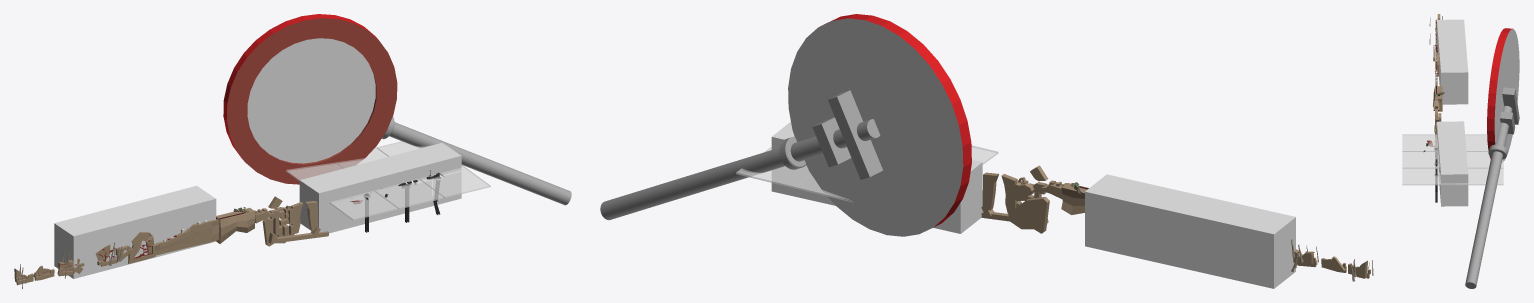
Rendered from 矿洞 标识界白盒.fbx.
3 views of the same model, side by side, from view 1: azimuth 30°, elevation 25°; view 2: azimuth 150°, elevation 25°; view 3: azimuth 270°, elevation 25° (orthographic). The views are drawn at different scales.
Visible parts, largest first — view 1: 立方体.003, fog.001, fog, Cube.170, Cube.163, Cube.155, Cube.099, Cube.127; view 2: 立方体.003, fog, fog.001, Cube.143, Cube.163, Cube.127, Cube.144; view 3: 立方体.003, fog.001, fog, Cube.163, Cube.155, Cube.170, Cube.127.
Boxes of the visible parts, <box> form: 立方体.003: <box>223,14,571,205</box>; fog.001: <box>299,142,461,233</box>; fog: <box>54,185,216,278</box>; Cube.170: <box>285,162,398,220</box>; Cube.163: <box>377,141,490,197</box>; Cube.155: <box>337,147,444,209</box>; Cube.099: <box>154,220,212,254</box>; Cube.127: <box>216,208,255,243</box>; 立方体.003: <box>600,14,971,236</box>; fog: <box>1085,174,1295,288</box>; fog.001: <box>771,121,982,233</box>; Cube.143: <box>1008,197,1049,233</box>; Cube.163: <box>736,147,811,188</box>; Cube.127: <box>1061,183,1088,214</box>; Cube.144: <box>982,172,998,210</box>; 立方体.003: <box>1465,28,1519,288</box>; fog.001: <box>1437,121,1468,206</box>; fog: <box>1437,19,1468,104</box>; Cube.163: <box>1402,167,1503,185</box>; Cube.155: <box>1402,151,1503,168</box>; Cube.170: <box>1402,134,1488,151</box>; Cube.127: <box>1433,86,1442,111</box>.
Size of the model in its own units: 188524 by 71127 by 44540.
